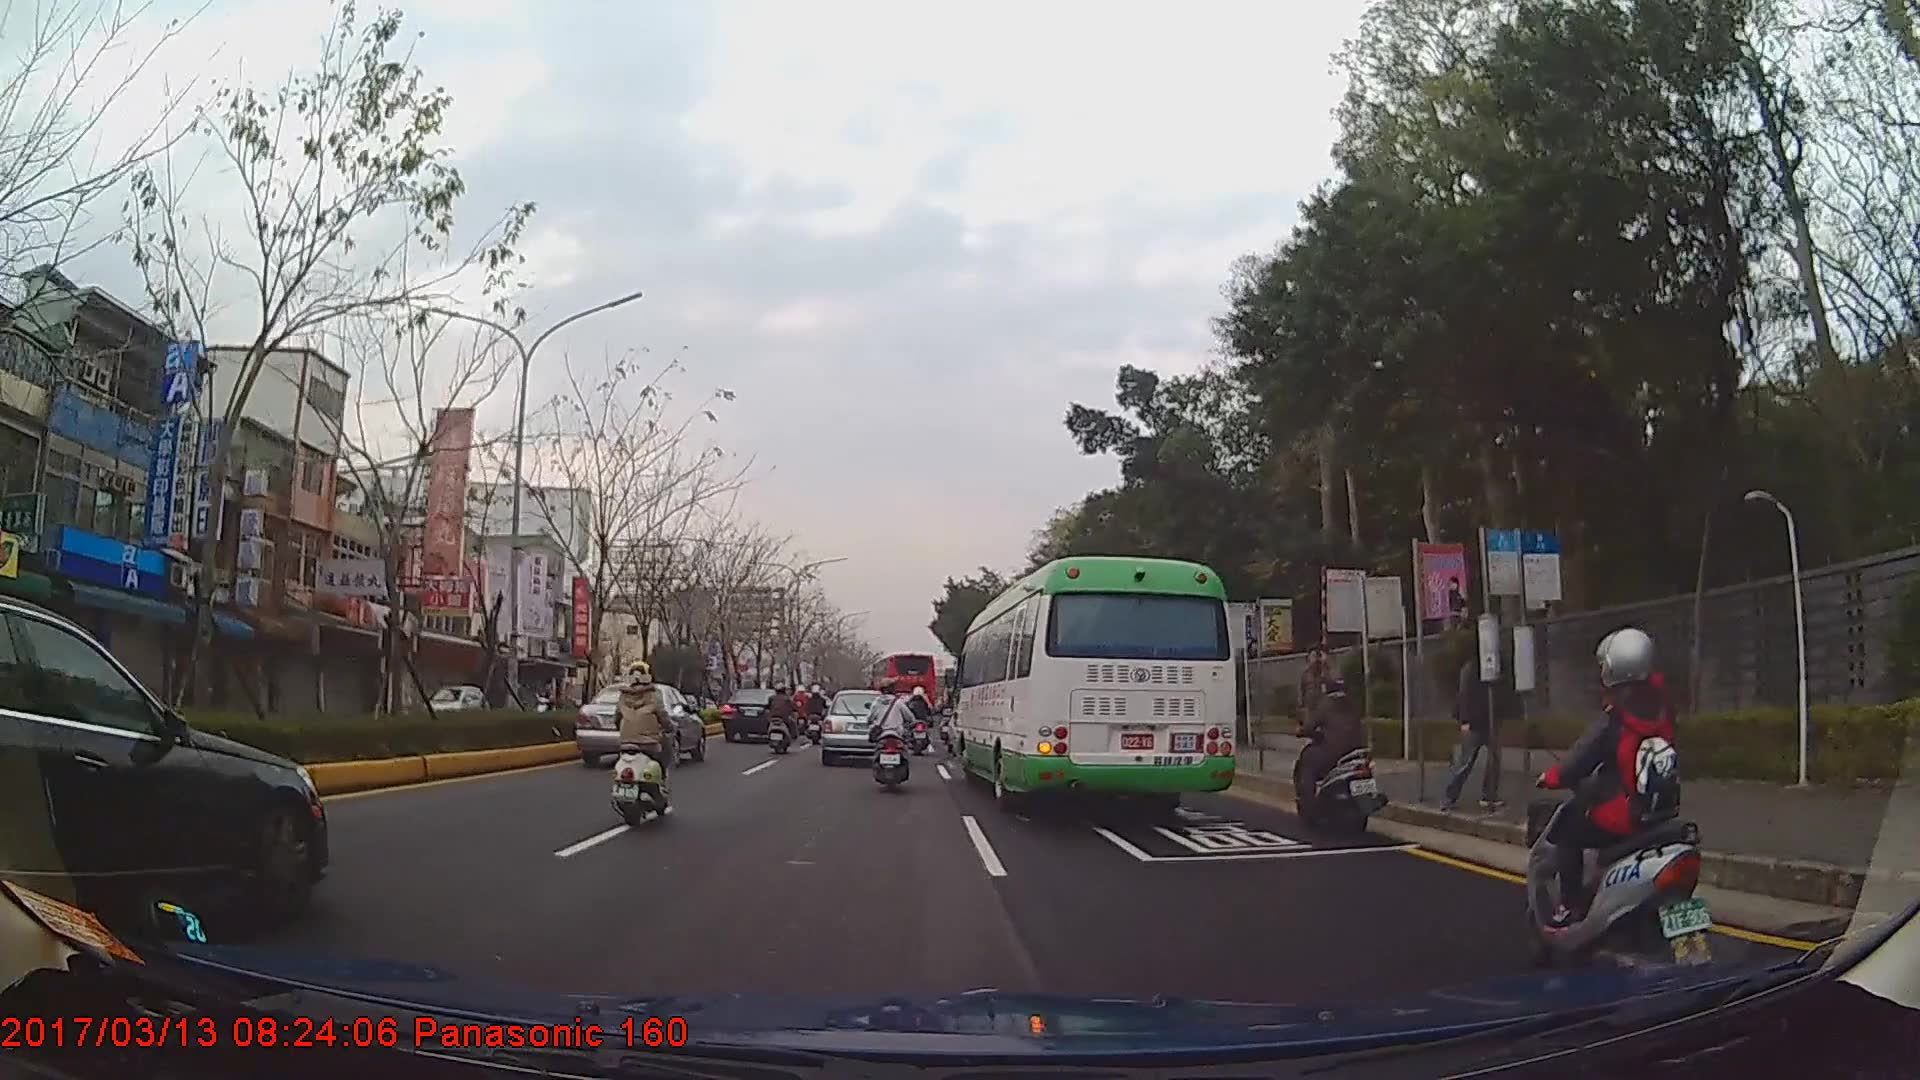pedestrian: (1437, 629, 1510, 812), (1294, 647, 1340, 761)
rider: (1522, 621, 1713, 953), (1285, 665, 1385, 836), (609, 656, 678, 832), (865, 678, 915, 790), (766, 684, 799, 754), (908, 684, 935, 737), (807, 686, 829, 743), (535, 683, 557, 714)
vehicle: (0, 595, 327, 958), (952, 553, 1237, 810), (575, 679, 706, 765), (819, 689, 902, 762), (868, 648, 937, 718), (722, 682, 795, 742), (408, 676, 492, 724)
